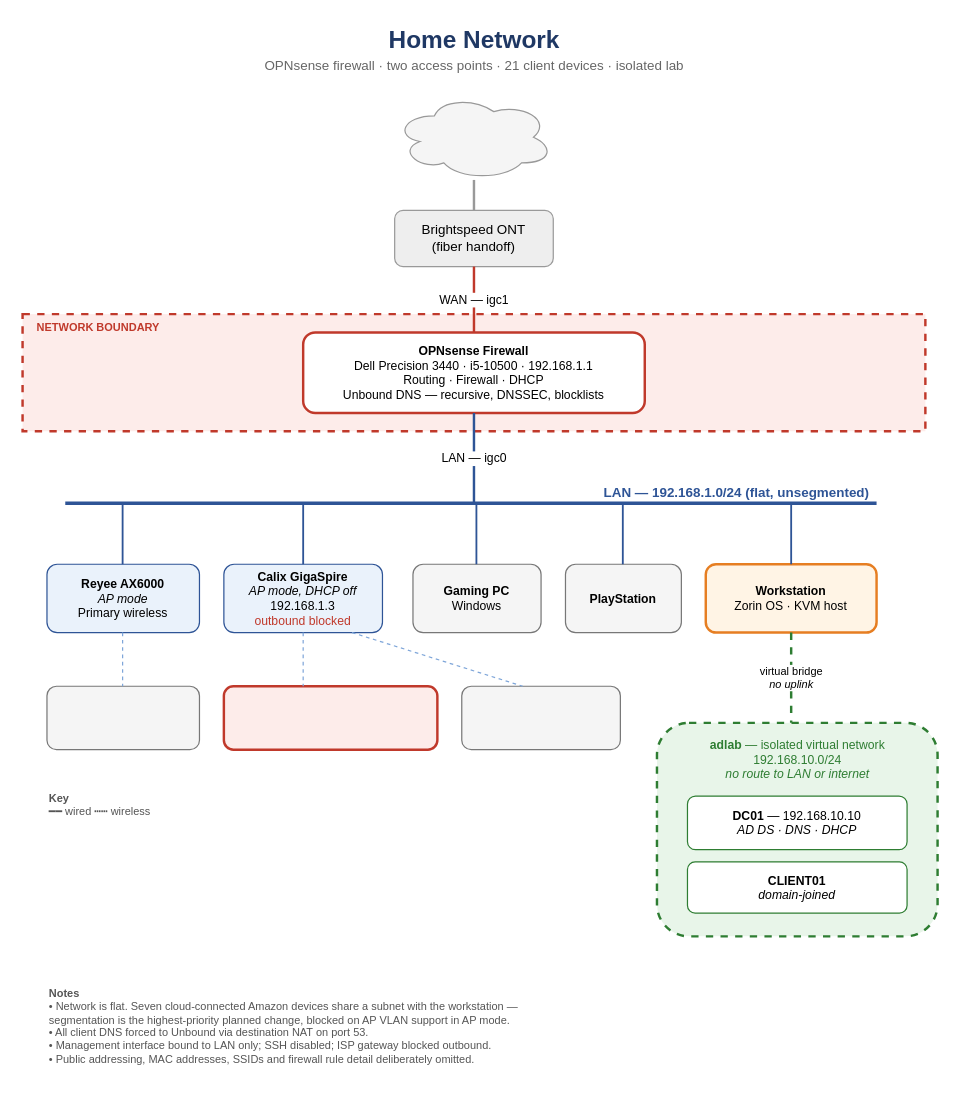
This 959x1109 diagram has some shape labels left out. Each missing label, with the centre of its shape:
Amazon IoT (7) cameras · voice devices ⚠ same subnet as workstation: point 330,717
Internet: point 473,136
Other clients (2) misc. smart devices: point 540,717
Phones & tablets (5) wireless: point 122,717
